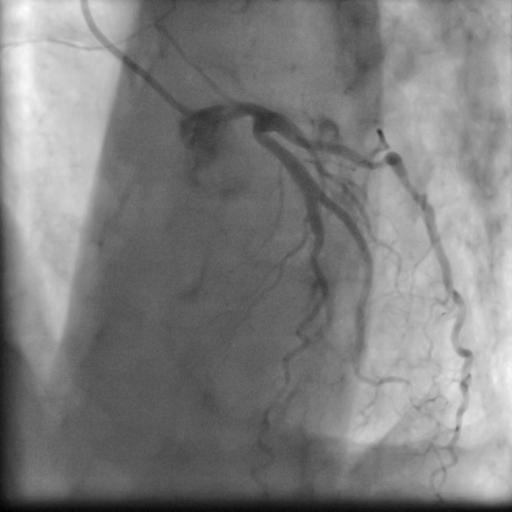Stenosis: (369, 151, 395, 173)
